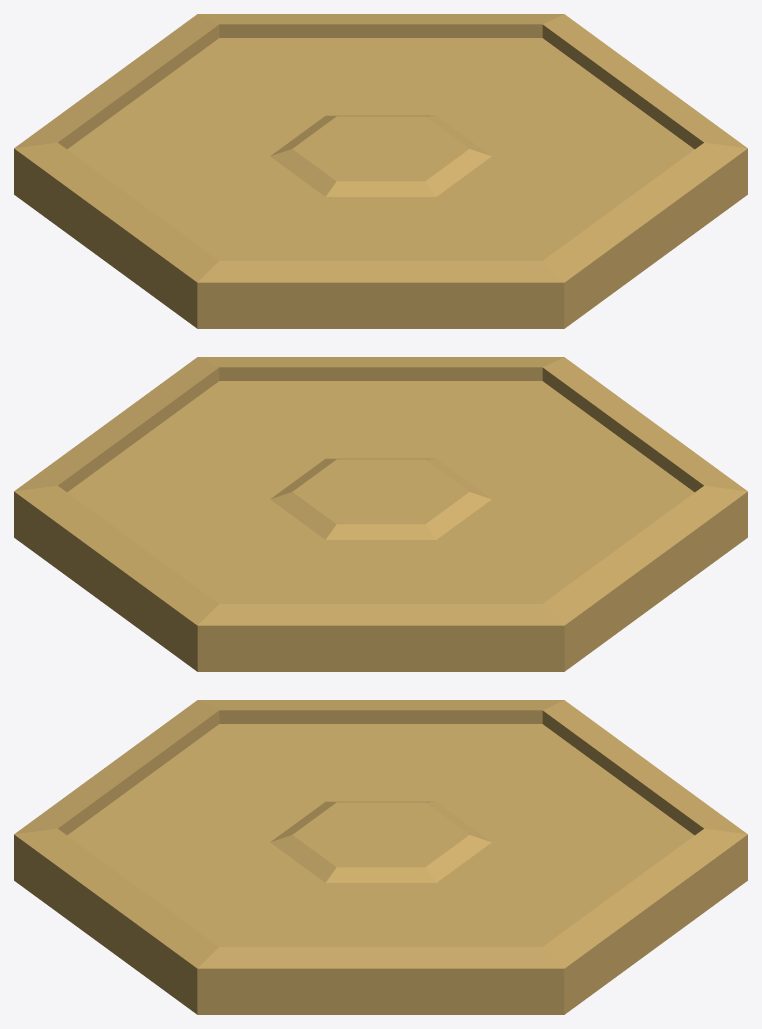
The model's file is coin.fbx.
3 views of the same model, one above another, from view 1: azimuth 30°, elevation 25°; view 2: azimuth 150°, elevation 25°; view 3: azimuth 270°, elevation 25° (orthographic).
Parts seen in each view (by area): view 1: Cylinder; view 2: Cylinder; view 3: Cylinder.
Part boxes in pixels (bbox=[...]): Cylinder: bbox=[14, 14, 747, 328]; Cylinder: bbox=[14, 357, 747, 671]; Cylinder: bbox=[14, 700, 747, 1014].
Bounding box in the file's own units: 16.85 × 1.69 × 19.46.
